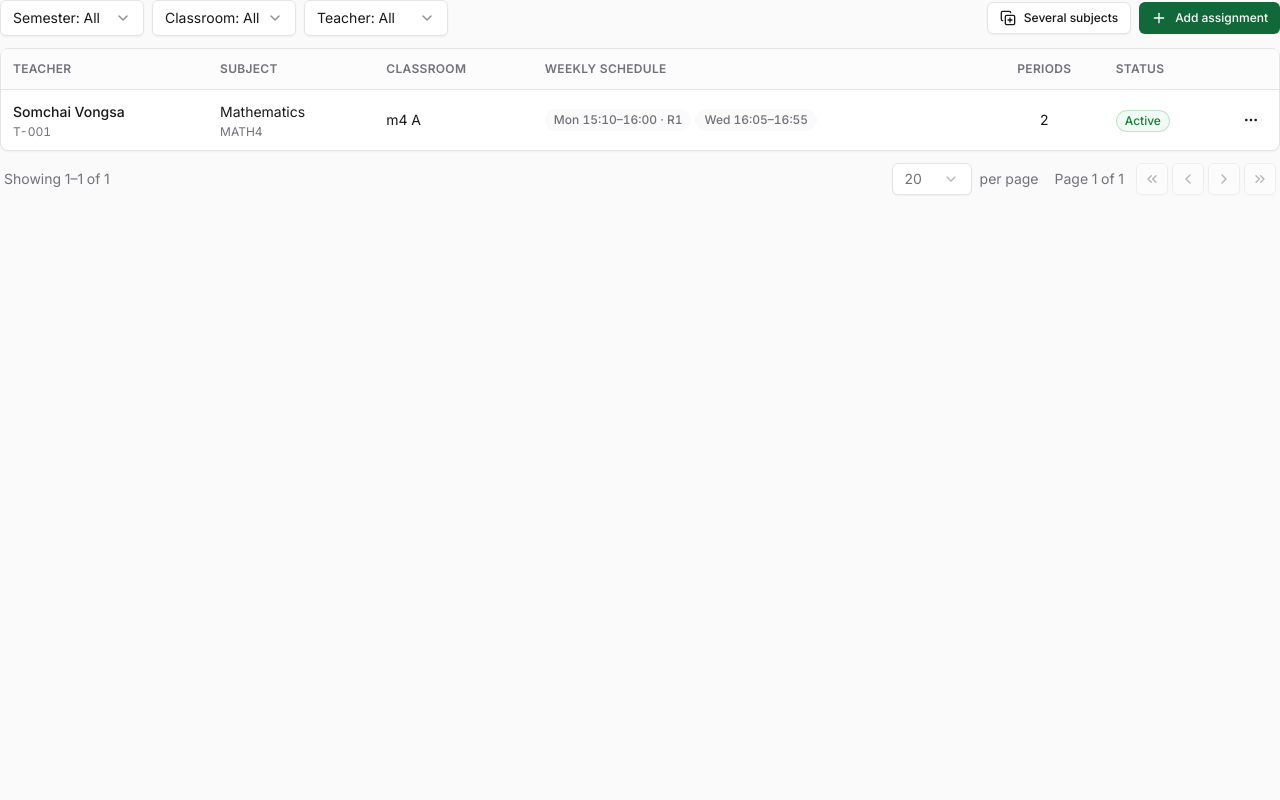
teaching assignments — schedule editor › still refuses a swap slot that overlaps another period of its own
Expected: the text "Mathematics" is shown, [220,100,305,122]
Click the button named "actions" at (1251, 120), box [1235,104,1267,136]
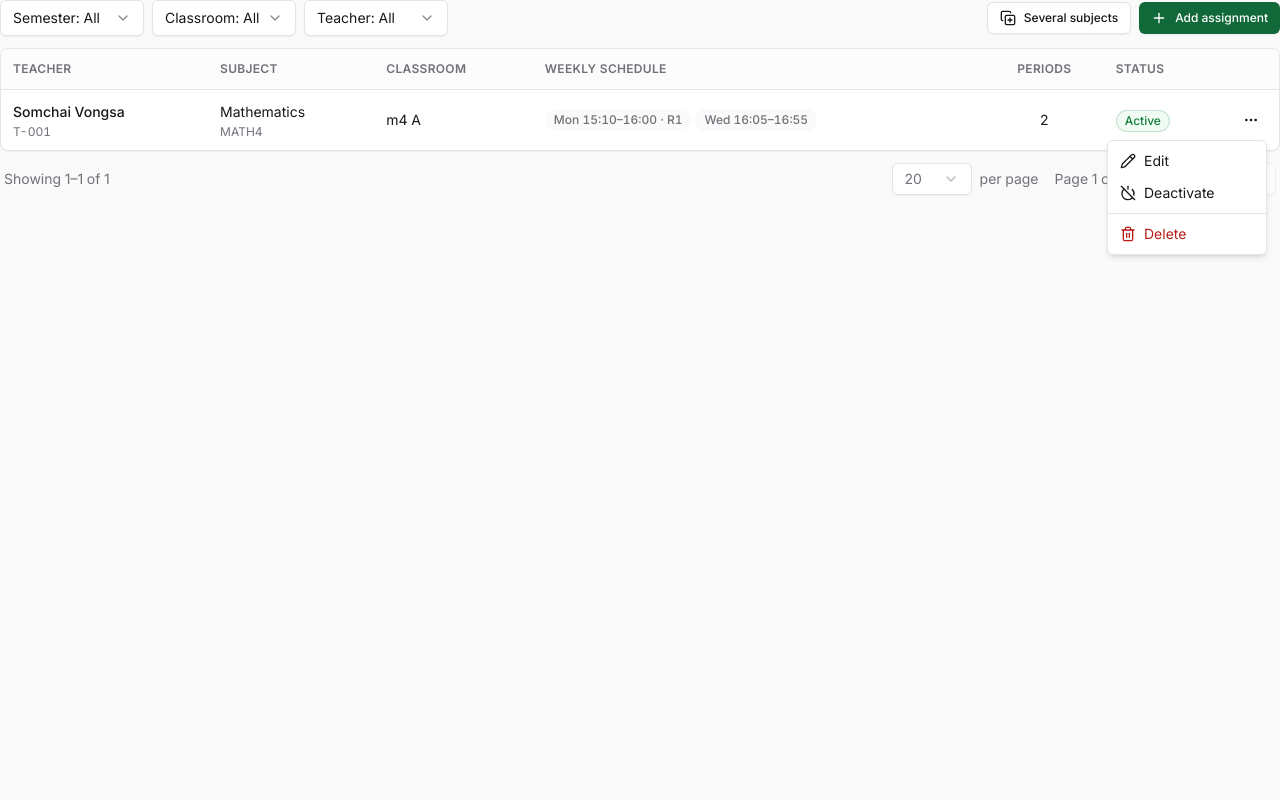
Click the menu item "Edit" at (1144, 160), box [1120,149,1169,172]
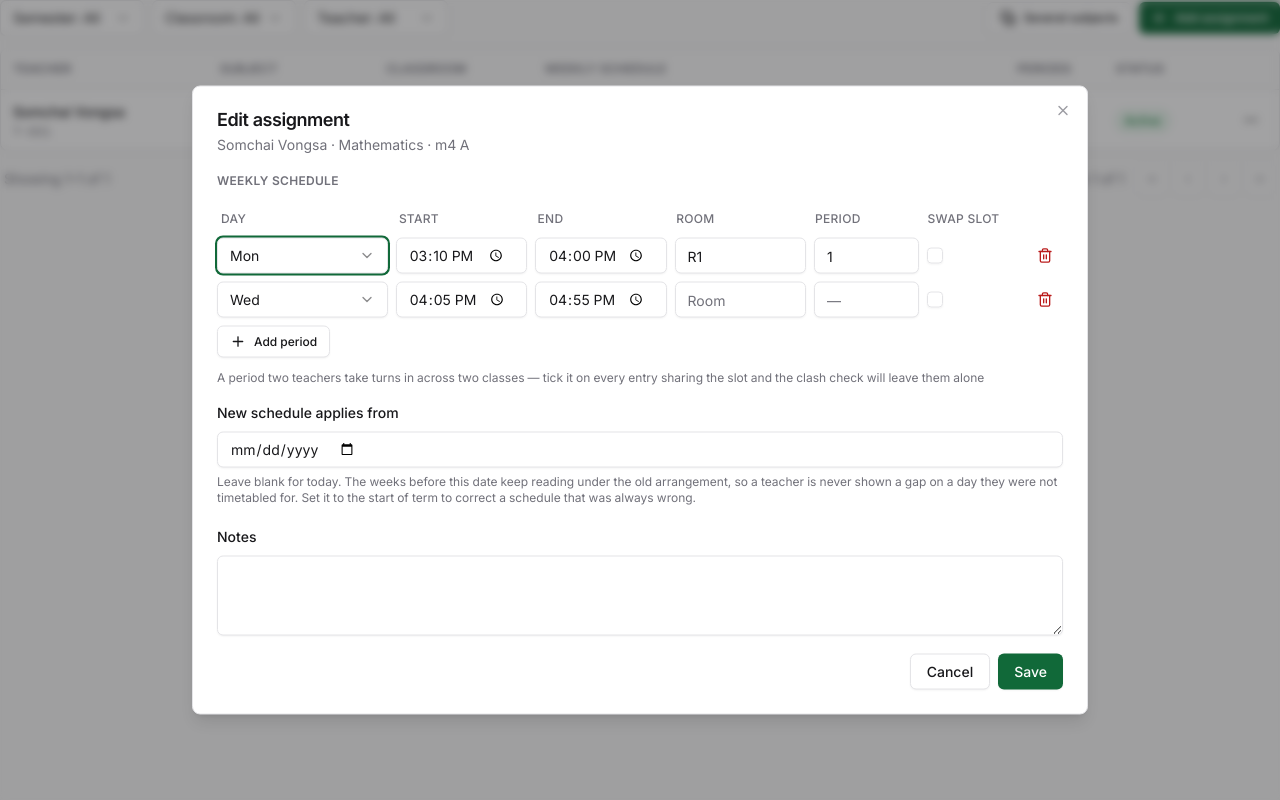
Click the button "Add period" at (274, 342), box [217,326,330,358]
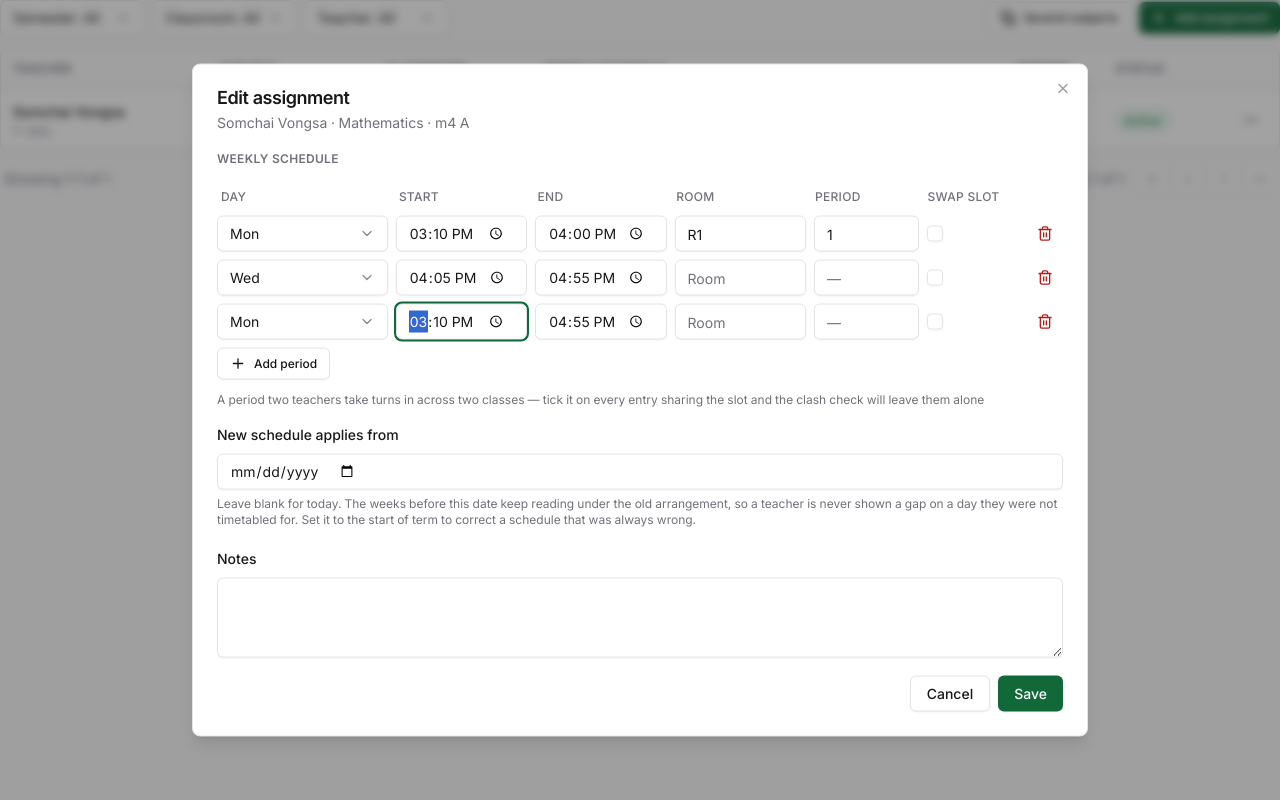
Click the 1st checkbox named "swap slot" at (935, 234), box [927,226,943,242]
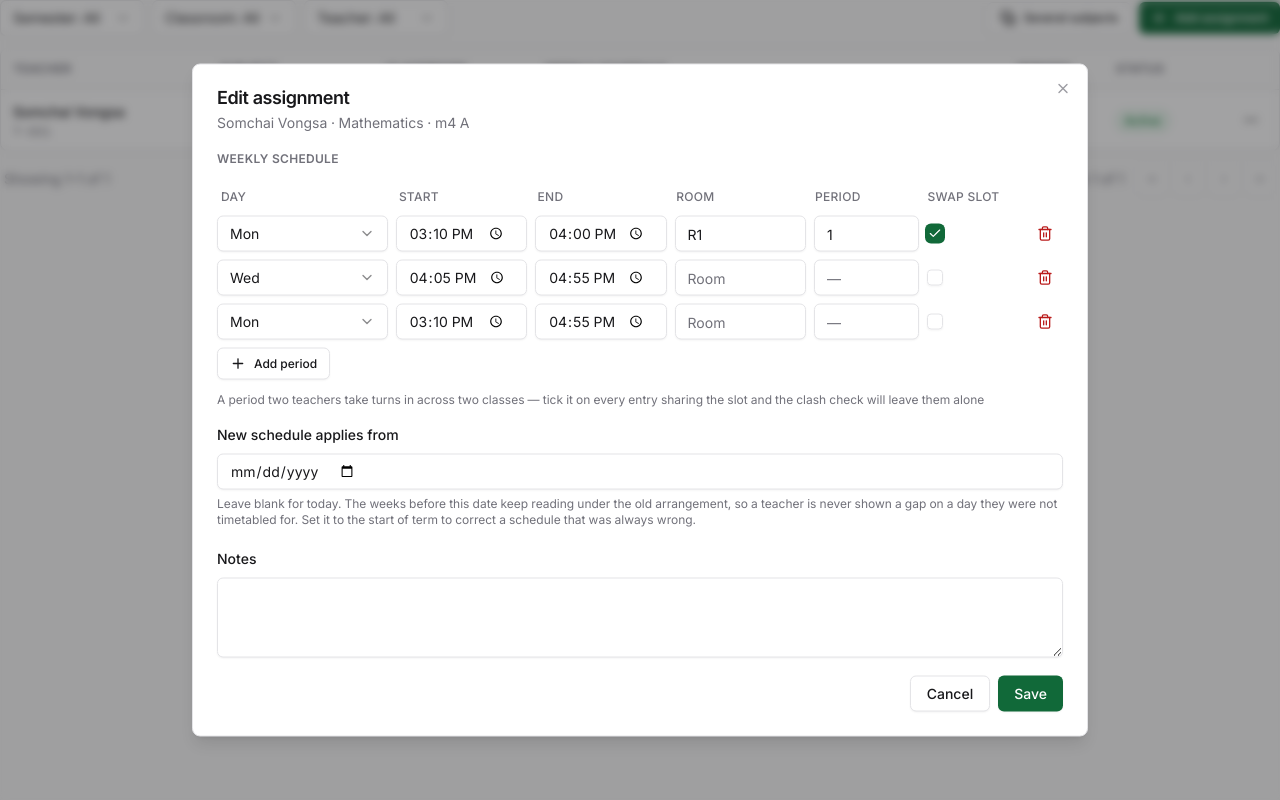
Click the 3rd checkbox named "swap slot" at (935, 322), box [927,314,943,330]
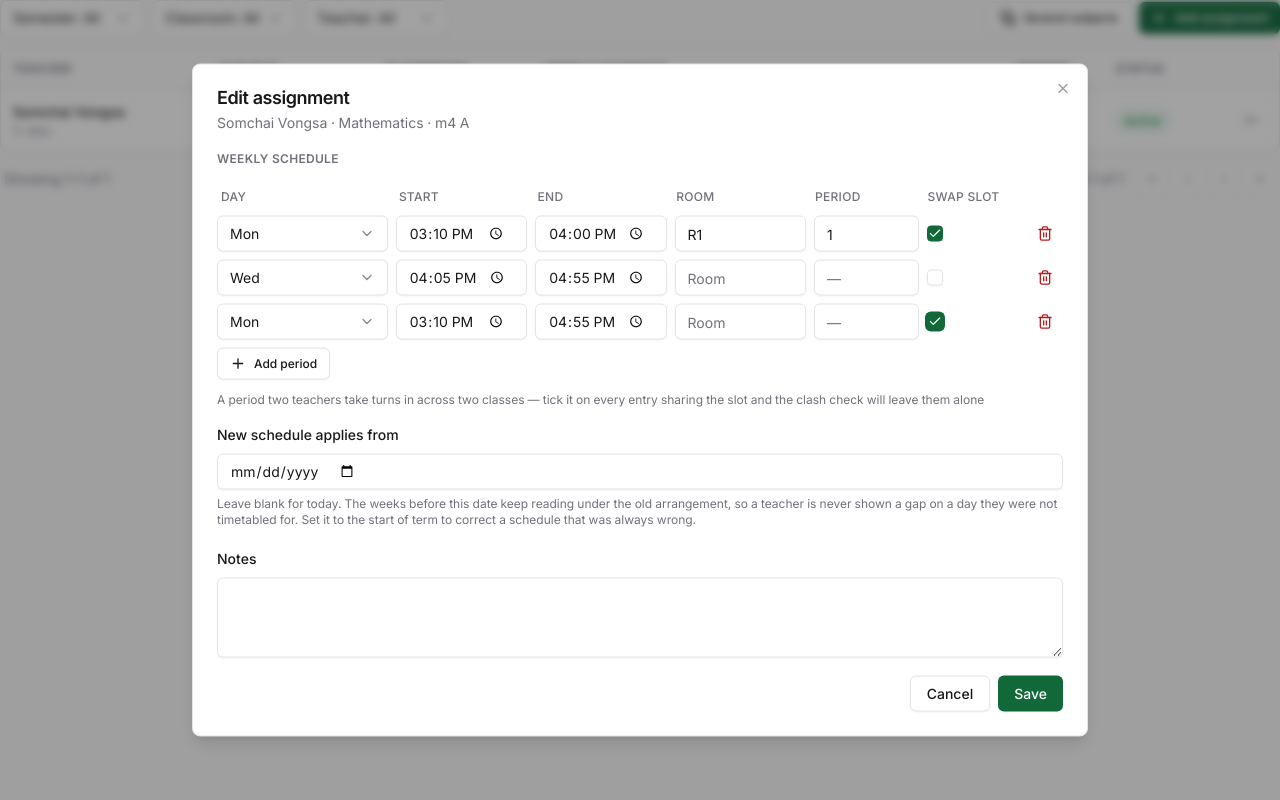
Click the button "Save" at (1031, 694), box [998,676,1063,712]
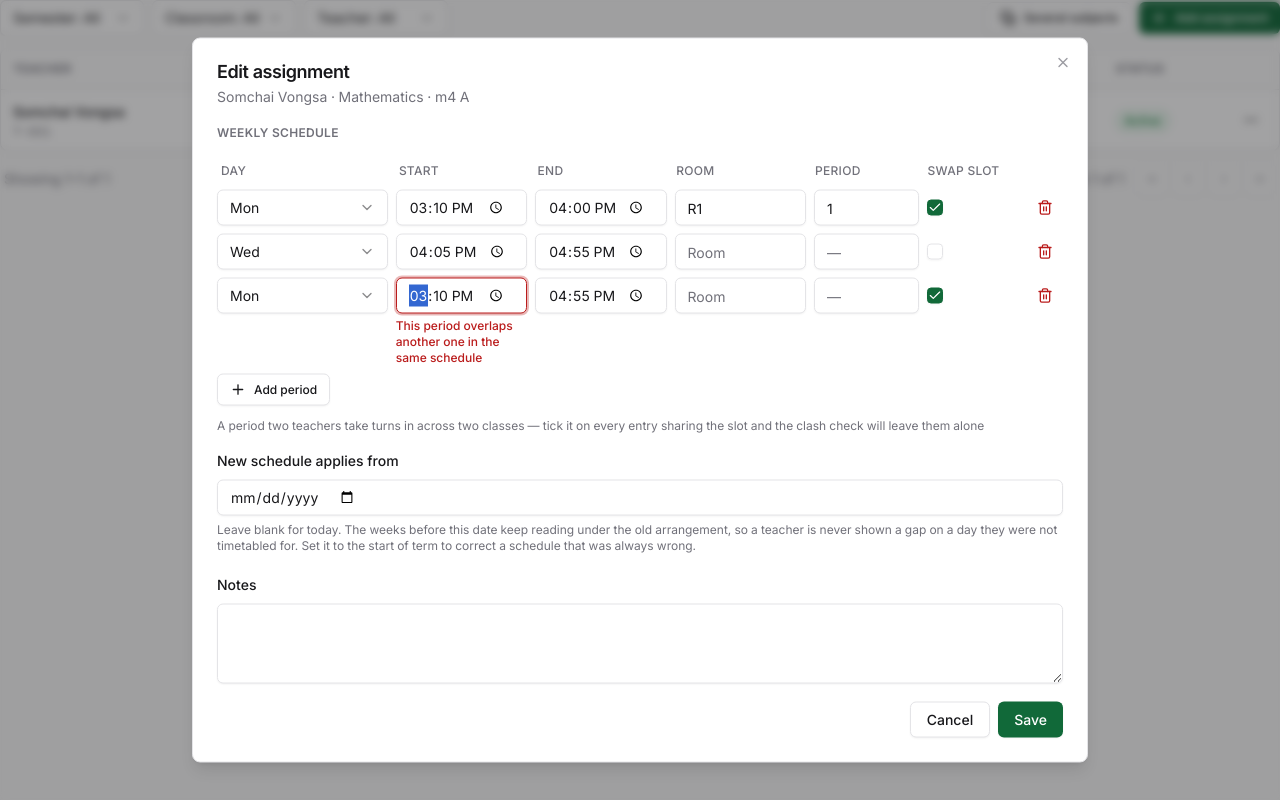
Expected: the text "This period overlaps another one in the same schedule" is shown, [396,318,527,366]
